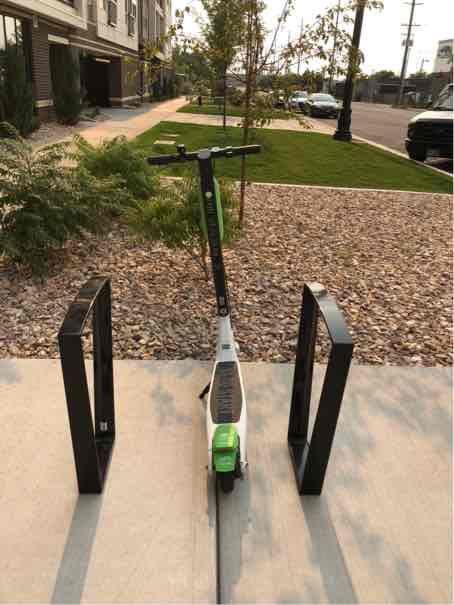scooter: (138, 146, 281, 488)
